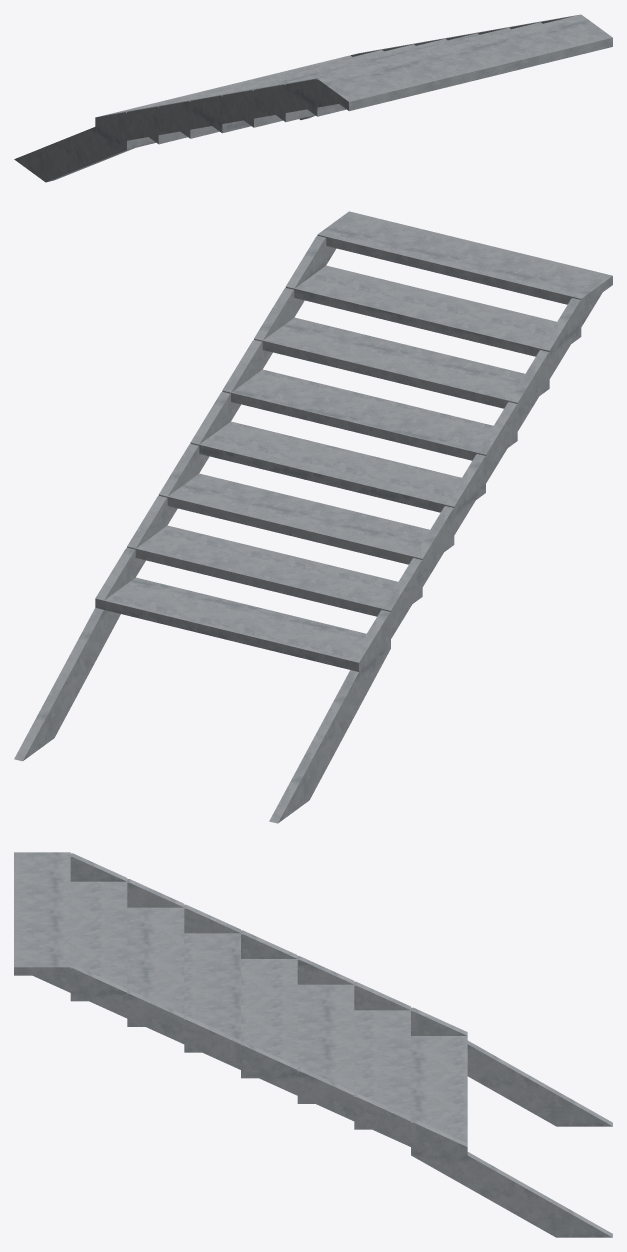
File: Control-Room-Stair.obj
3 renders of one model, top to bottom at view 1: azimuth 30°, elevation 25°; view 2: azimuth 150°, elevation 25°; view 3: azimuth 270°, elevation 25°, orthographic. The views are drawn at different scales.
Visible parts, largest first — view 1: Control-Room-Stair; view 2: Control-Room-Stair; view 3: Control-Room-Stair.
Part boxes in pixels (x1,y1,x2,y2): Control-Room-Stair: (14,14,612,182); Control-Room-Stair: (14,211,612,823); Control-Room-Stair: (14,852,612,1237).
Size of the model in its own units: 3 by 3.29 by 6.6.
